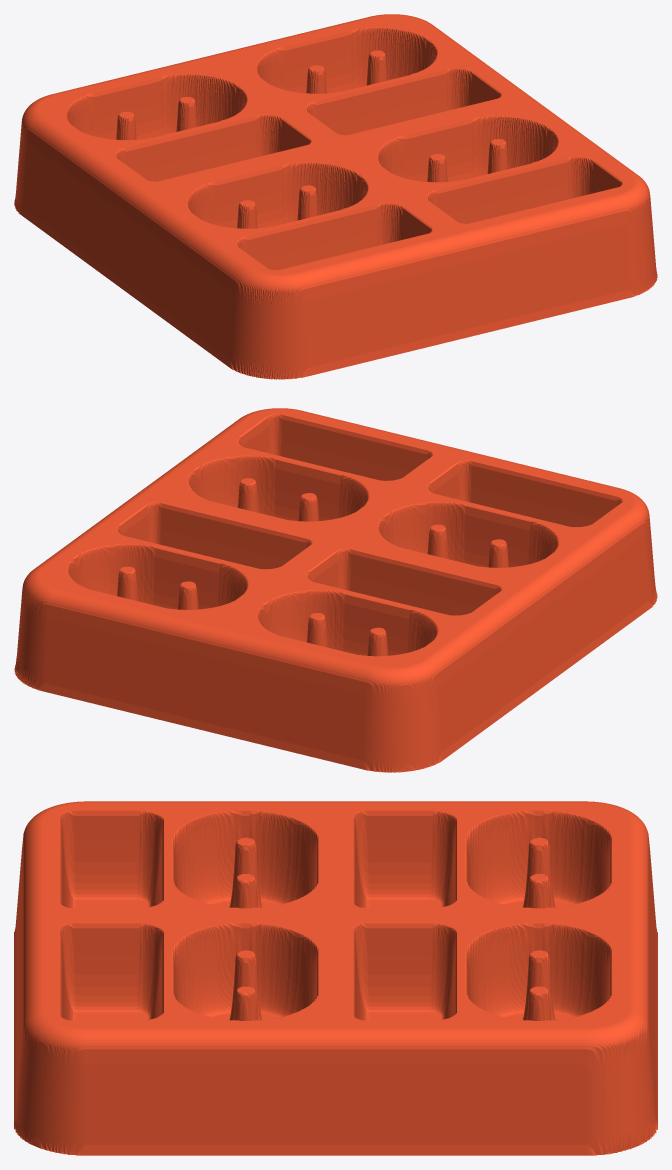
File: mold.glb
The picture shows the model from 3 angles, top to bottom: view 1: azimuth 30°, elevation 25°; view 2: azimuth 150°, elevation 25°; view 3: azimuth 270°, elevation 25°; orthographic projection. The views are drawn at different scales.
Parts seen in each view (by area): view 1: geometry_0; view 2: geometry_0; view 3: geometry_0.
Boxes of the visible parts, x1=… form: geometry_0: x1=14, y1=14, x2=657, y2=379; geometry_0: x1=14, y1=408, x2=657, y2=772; geometry_0: x1=14, y1=801, x2=657, y2=1155.
Size of the model in its own units: 0.074 by 0.0159 by 0.0808.
